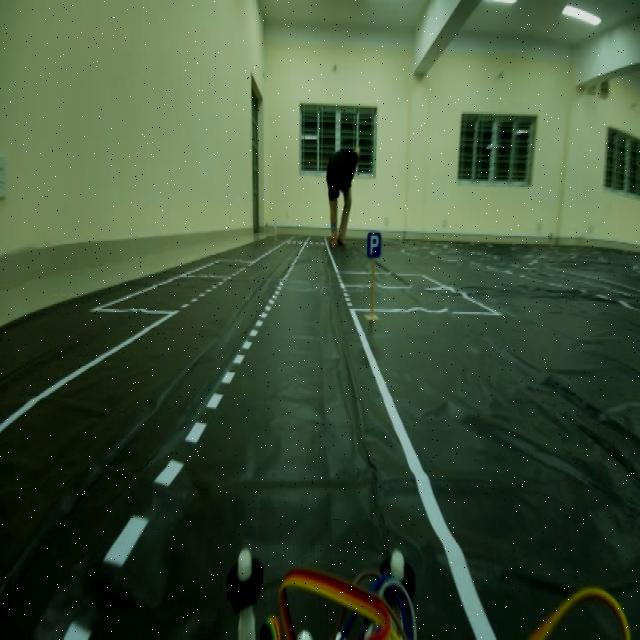parking: (364, 226, 382, 262)
